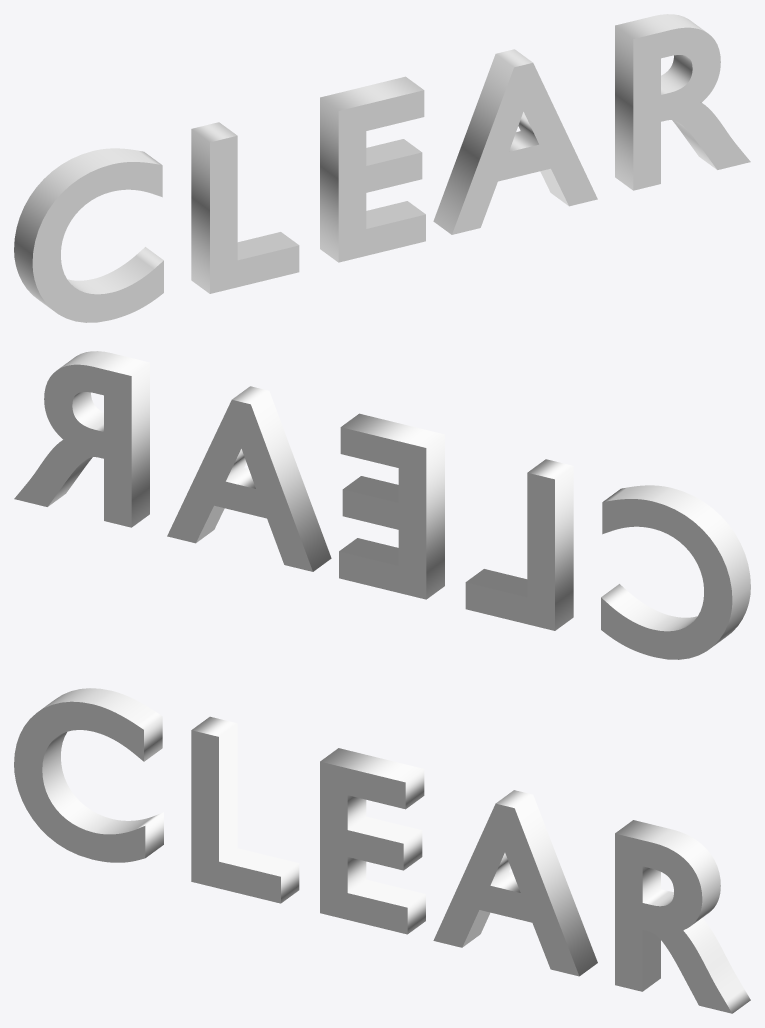
The model's file is clear.obj.
The picture shows the model from 3 angles, top to bottom: view 1: azimuth 30°, elevation 25°; view 2: azimuth 150°, elevation 25°; view 3: azimuth 330°, elevation 25°; orthographic projection.
Visible parts, largest first — view 1: テキスト; view 2: テキスト; view 3: テキスト.
Boxes of the visible parts, x1,y1,x2,y2 form: テキスト: (14, 14, 750, 322); テキスト: (14, 351, 750, 659); テキスト: (14, 688, 750, 1013).
Bounding box in the file's own units: 3.58 × 0.74 × 0.16.
1 material, 1 textured.
